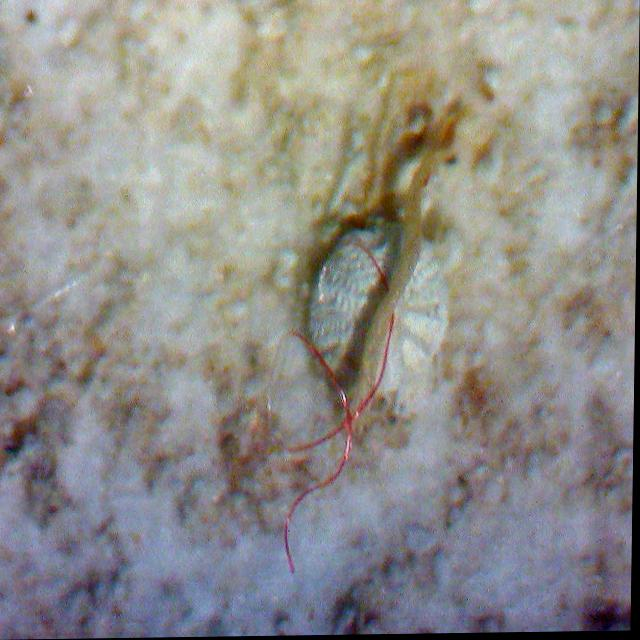microplastic: (281, 333, 353, 574), (281, 315, 395, 453)
